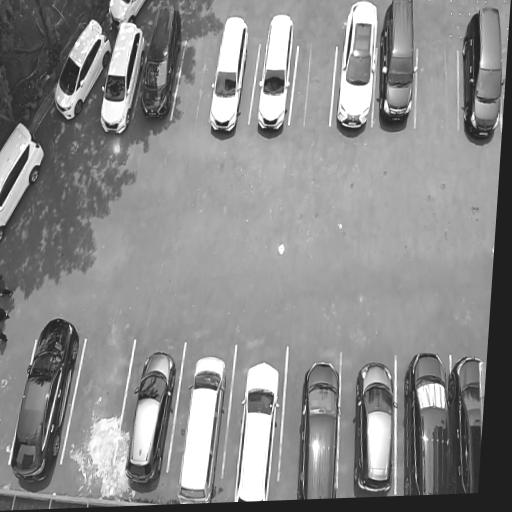Car: (5, 318, 87, 492), (396, 349, 463, 496), (118, 344, 183, 493), (173, 348, 232, 504), (346, 358, 406, 498), (232, 346, 284, 501), (47, 14, 113, 136), (457, 0, 511, 143), (89, 21, 151, 142), (292, 357, 342, 499), (0, 109, 47, 248), (334, 0, 381, 138), (444, 348, 488, 494), (205, 10, 251, 145), (373, 0, 419, 134), (254, 11, 298, 137), (138, 0, 180, 119), (108, 0, 148, 34)
Space Available: (60, 332, 132, 473), (169, 35, 219, 136), (292, 34, 336, 132), (416, 32, 457, 135)
